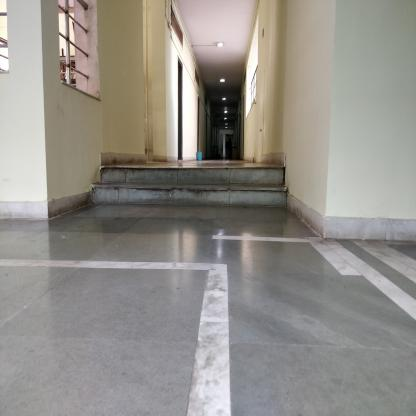stairs: (102, 161, 288, 212)
